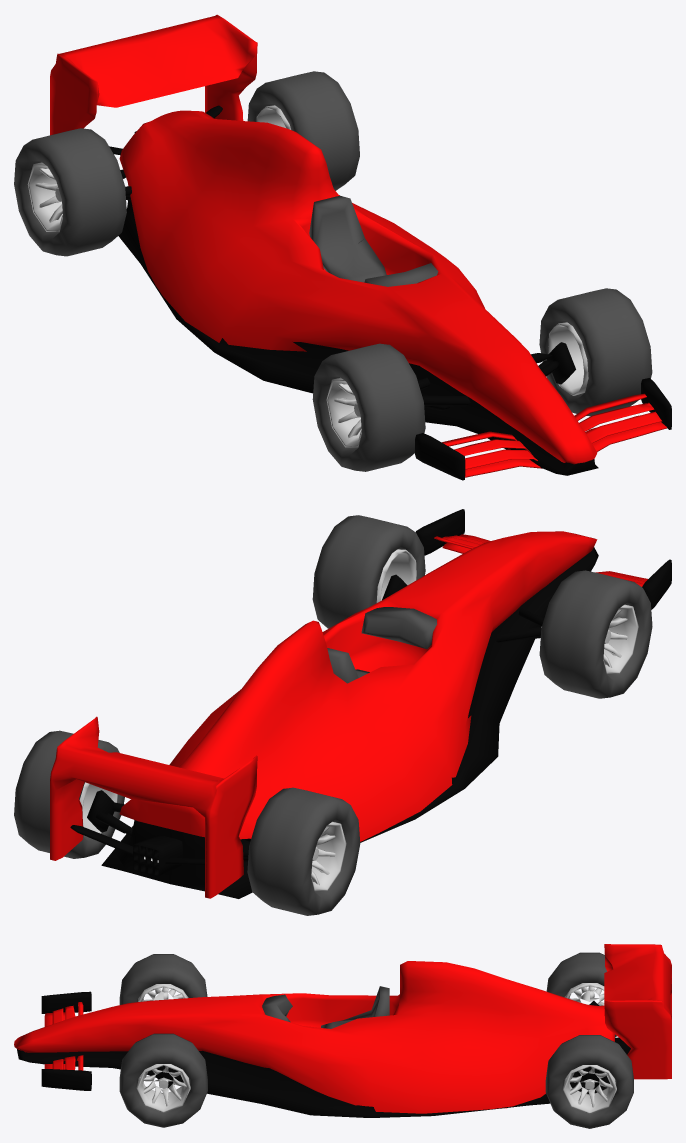
File: F1 Car LP.fbx
3 renders of one model, top to bottom at view 1: azimuth 30°, elevation 25°; view 2: azimuth 150°, elevation 25°; view 3: azimuth 270°, elevation 25°, orthographic. The views are drawn at different scales.
Visible parts, largest first — view 1: F1Car, Wheel RR, Wheel FR, Wheel FL, Wheel RL; view 2: F1Car, Wheel RR, Wheel FR, Wheel FL, Wheel RL; view 3: F1Car, Wheel FL, Wheel RL, Wheel FR, Wheel RR.
Boxes of the visible parts, x1,y1,x2,y2 form: F1Car: [50, 14, 671, 480]; Wheel RR: [14, 128, 126, 256]; Wheel FR: [312, 343, 425, 471]; Wheel FL: [539, 288, 652, 416]; Wheel RL: [247, 71, 359, 190]; F1Car: [50, 509, 671, 898]; Wheel RR: [247, 787, 360, 915]; Wheel FR: [539, 570, 652, 698]; Wheel FL: [312, 515, 425, 628]; Wheel RL: [14, 730, 124, 858]; F1Car: [14, 944, 671, 1117]; Wheel FL: [119, 1033, 207, 1127]; Wheel RL: [545, 1035, 633, 1128]; Wheel FR: [119, 954, 207, 1004]; Wheel RR: [546, 952, 616, 1037].
Bounding box in the file's own units: 291 × 160 × 795.
